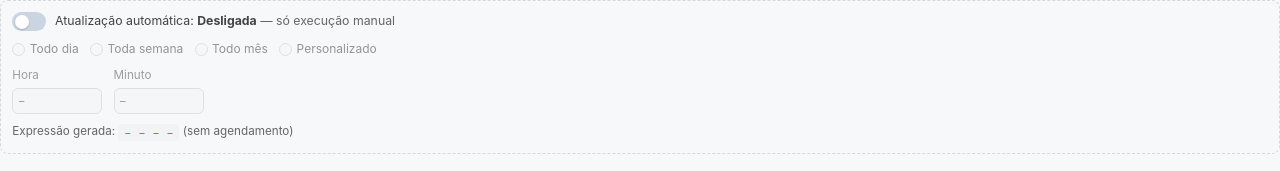
Test: ConstrutorCron — ligar e escolher do zero › ao ligar, nada vem preenchido e o agendamento fica incompleto
Click the switch with class "interruptor-entrada": (204, 22) [12,12,395,31]
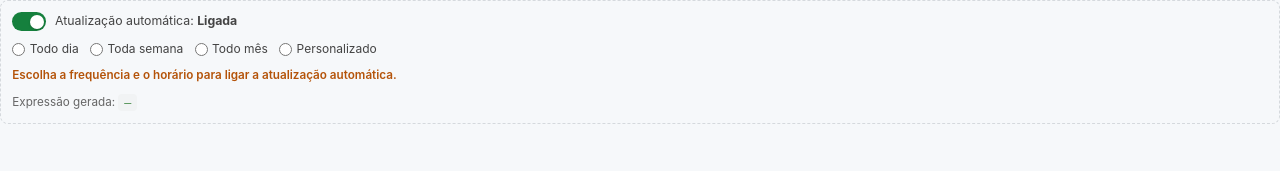
Expected: the message "Escolha a frequência e o horário para ligar a atualização automática." is shown, [12,68,397,82]
